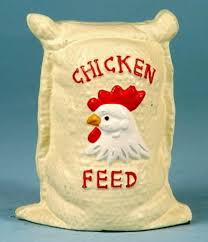feed_bag: (10, 5, 199, 235)
